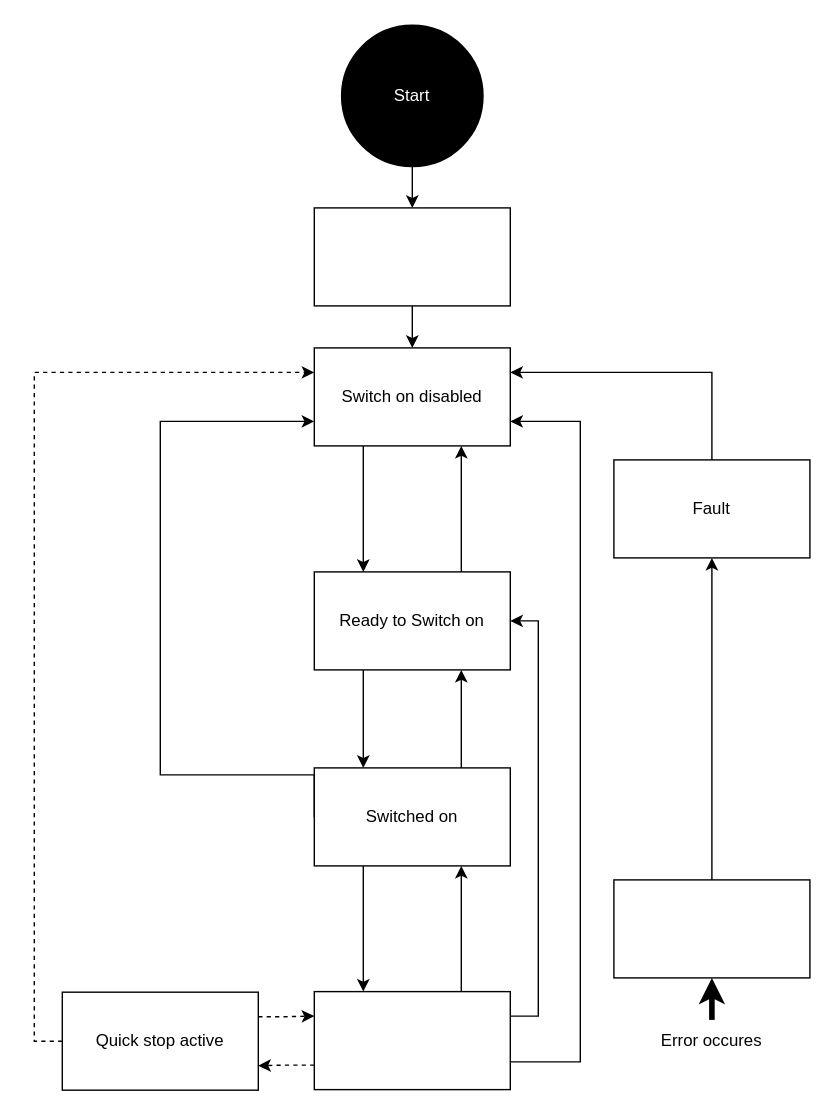
This 834x1114 diagram has some shape labels left out. The shapes that lost their labels are listed below. From the top down, each one's centre as x and y in pixels, then its label:
At (411,256): "Not Ready to Switch on".
At (711,928): "Fault reaction active".
At (411,1040): "Operation enabled".
